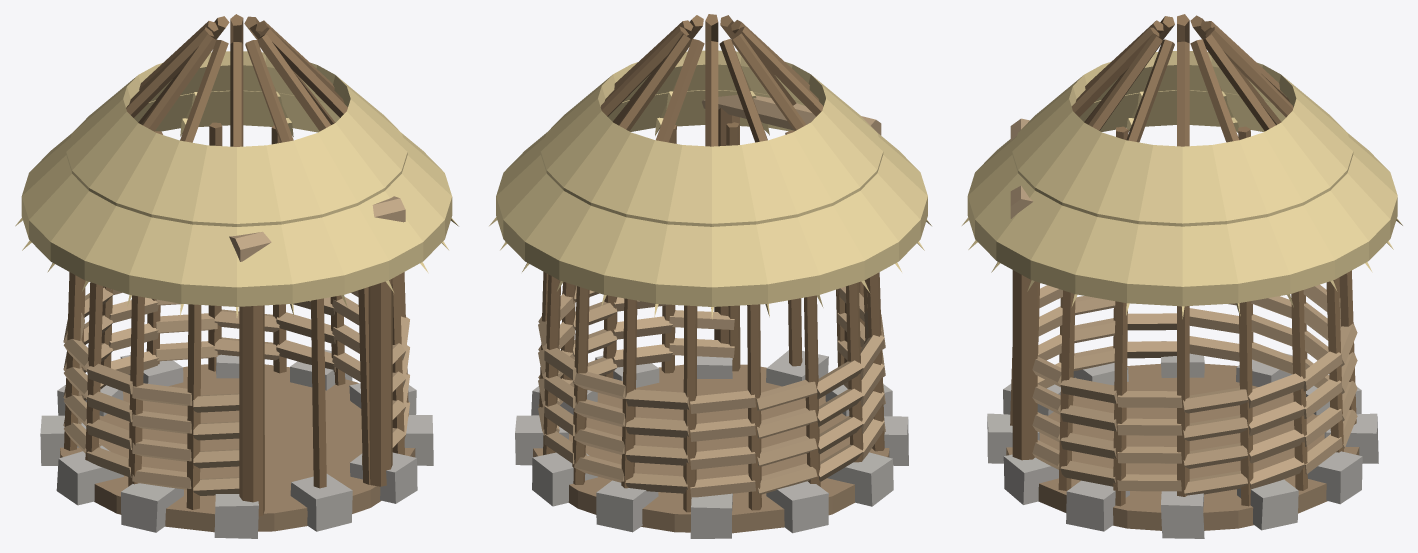
The model's file is building_hut_half.glb.
The picture shows the model from 3 angles, left to right: view 1: azimuth 30°, elevation 25°; view 2: azimuth 150°, elevation 25°; view 3: azimuth 270°, elevation 25°; orthographic projection.
Visible parts, largest first — view 1: building_hut_half; view 2: building_hut_half; view 3: building_hut_half.
Part boxes in pixels (x1,y1,x2,y2): building_hut_half: (15,14,458,538); building_hut_half: (489,14,931,538); building_hut_half: (962,14,1402,538).
Bounding box in the file's own units: 2.86 × 3.08 × 2.88.
